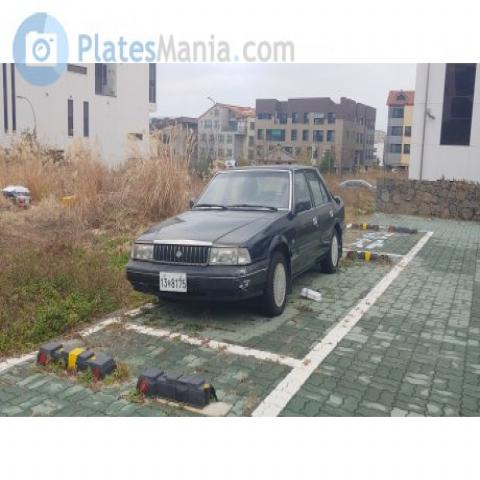LP: (153, 263, 191, 296)
